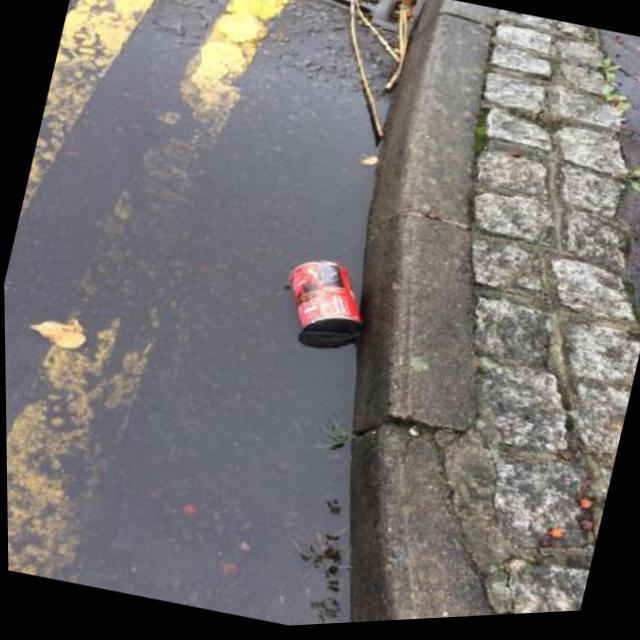metal: (271, 249, 377, 355)
